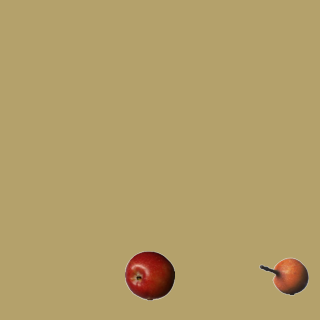Apple Braeburn: (124, 250, 174, 300)
Granadilla: (258, 251, 308, 301)
